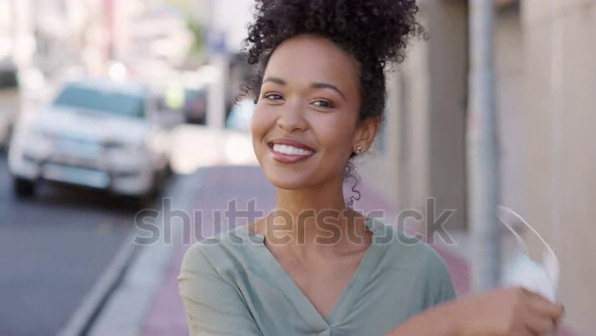No Mask: (250, 120, 345, 201)
